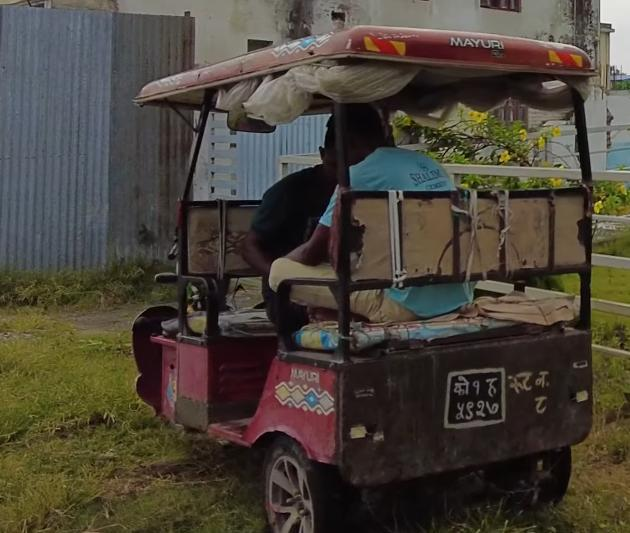e-rickshaw: (125, 18, 606, 533)
